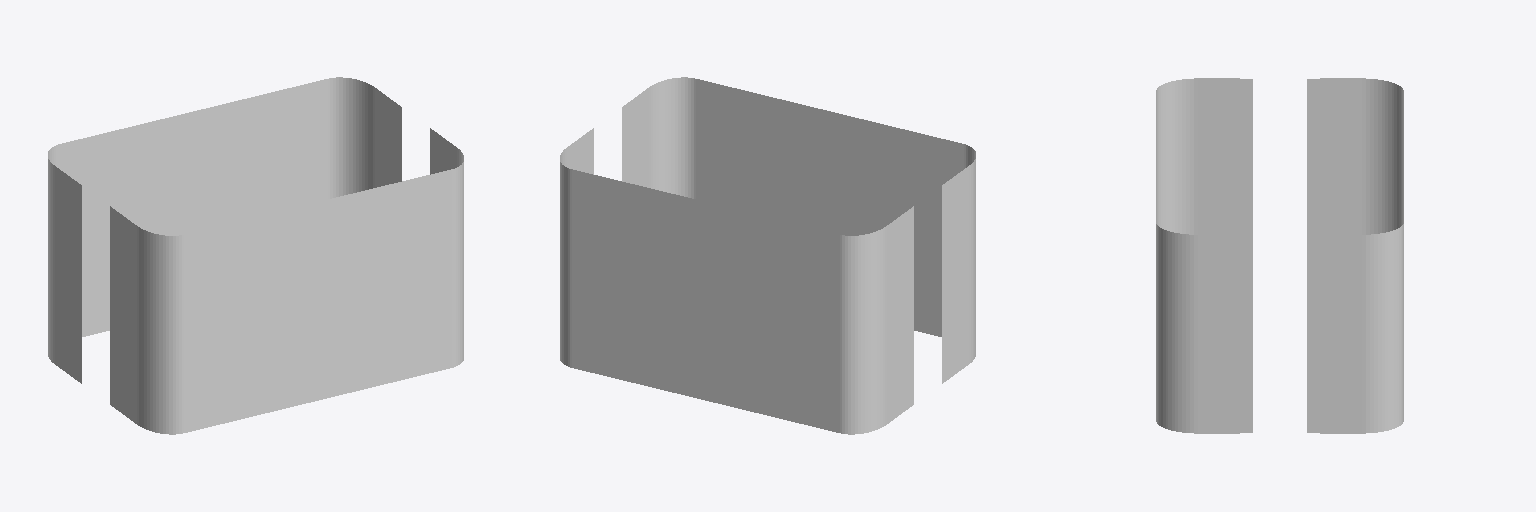
3 renders of one model, left to right at view 1: azimuth 30°, elevation 25°; view 2: azimuth 150°, elevation 25°; view 3: azimuth 270°, elevation 25°, orthographic.
Parts seen in each view (by area): view 1: walls_Plane.001; view 2: walls_Plane.001; view 3: walls_Plane.001.
Part boxes in pixels (left/top/right/bottom): walls_Plane.001: left=48, top=77, right=463, bottom=434; walls_Plane.001: left=560, top=77, right=975, bottom=434; walls_Plane.001: left=1156, top=78, right=1403, bottom=433.
Bounding box in the file's own units: 31.2 × 18.49 × 20.89.
Materials: 1 (1 with a texture image).